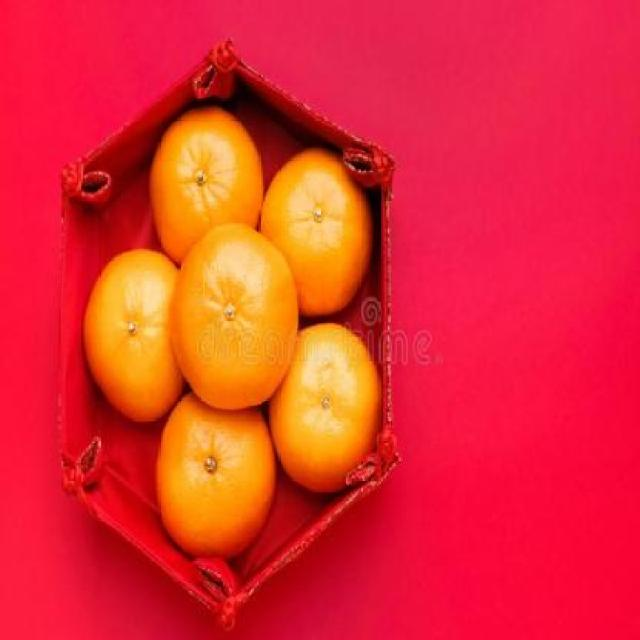Orange: (170, 222, 298, 409), (154, 392, 275, 558), (268, 322, 382, 492), (258, 147, 372, 316), (82, 246, 185, 423), (148, 105, 263, 262)
